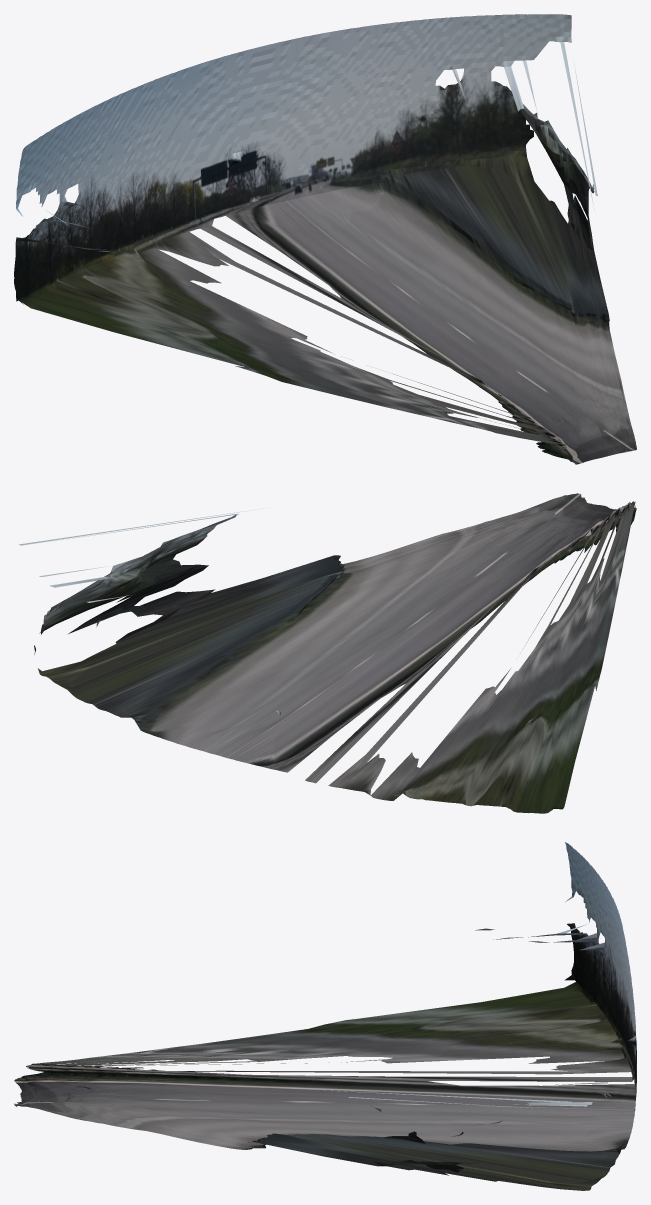
3 views of the same model, one above another, from view 1: azimuth 30°, elevation 25°; view 2: azimuth 150°, elevation 25°; view 3: azimuth 270°, elevation 25° (orthographic). The views are drawn at different scales.
Visible parts, largest first — view 1: defaultobject; view 2: defaultobject; view 3: defaultobject.
Part boxes in pixels (x1=…): defaultobject: x1=14, y1=14, x2=636, y2=464; defaultobject: x1=18, y1=493, x2=636, y2=813; defaultobject: x1=14, y1=842, x2=636, y2=1190.
Bounding box in the file's own units: 40.92 × 12.42 × 44.82.
1 material, 1 textured.
